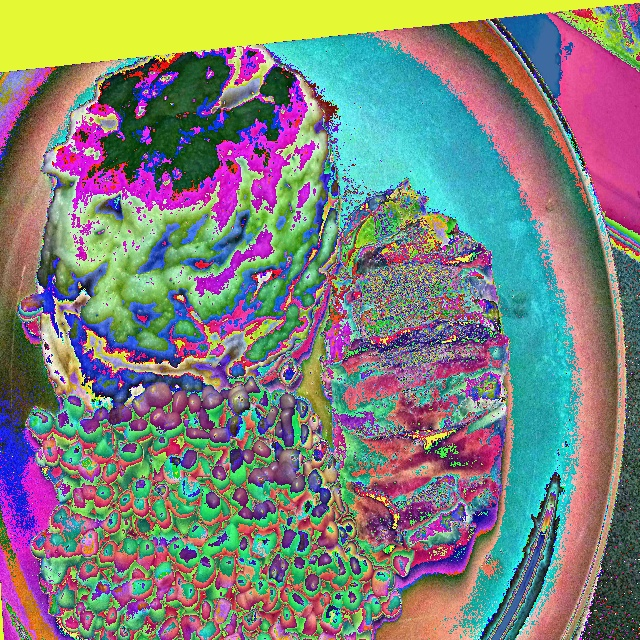background: (25, 45, 510, 639)
